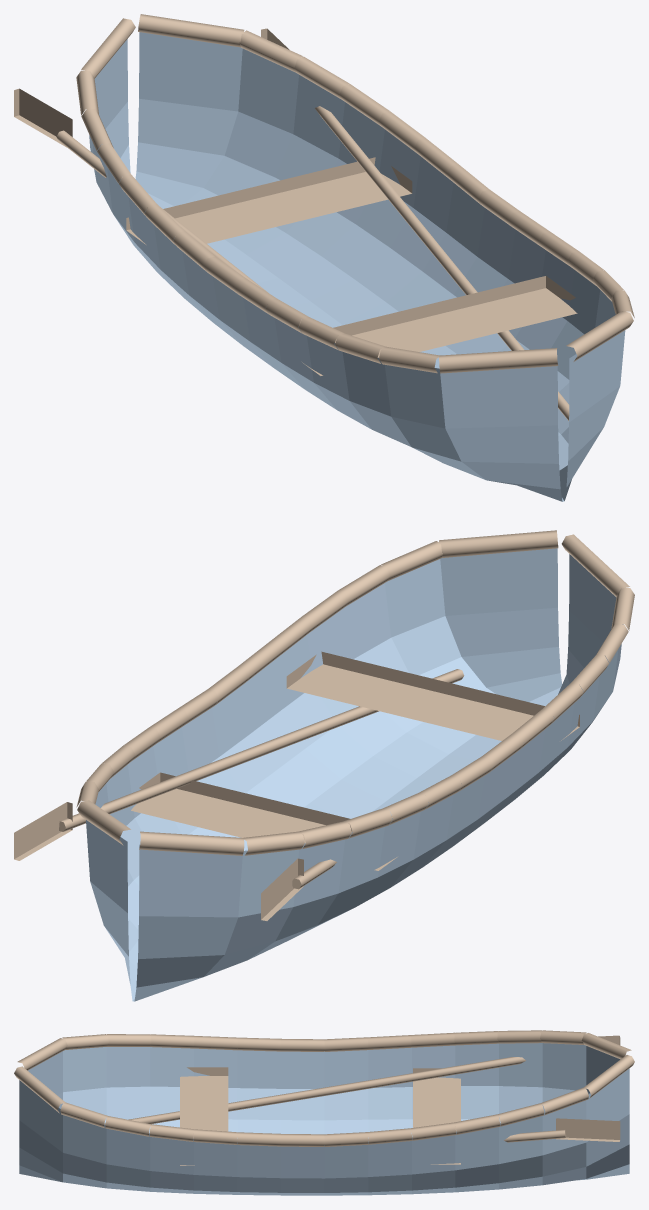
The model's file is HarborRowboatBlue.gltf.
The picture shows the model from 3 angles, top to bottom: view 1: azimuth 30°, elevation 25°; view 2: azimuth 150°, elevation 25°; view 3: azimuth 270°, elevation 25°; orthographic projection. The views are drawn at different scales.
Parts seen in each view (by area): view 1: HarborRowboatBlue; view 2: HarborRowboatBlue; view 3: HarborRowboatBlue.
Part boxes in pixels (x1,y1,x2,y2): HarborRowboatBlue: (14, 14, 634, 501); HarborRowboatBlue: (14, 530, 634, 1001); HarborRowboatBlue: (14, 1030, 634, 1195).
Size of the model in its own units: 1.48 by 0.8678 by 3.87.
